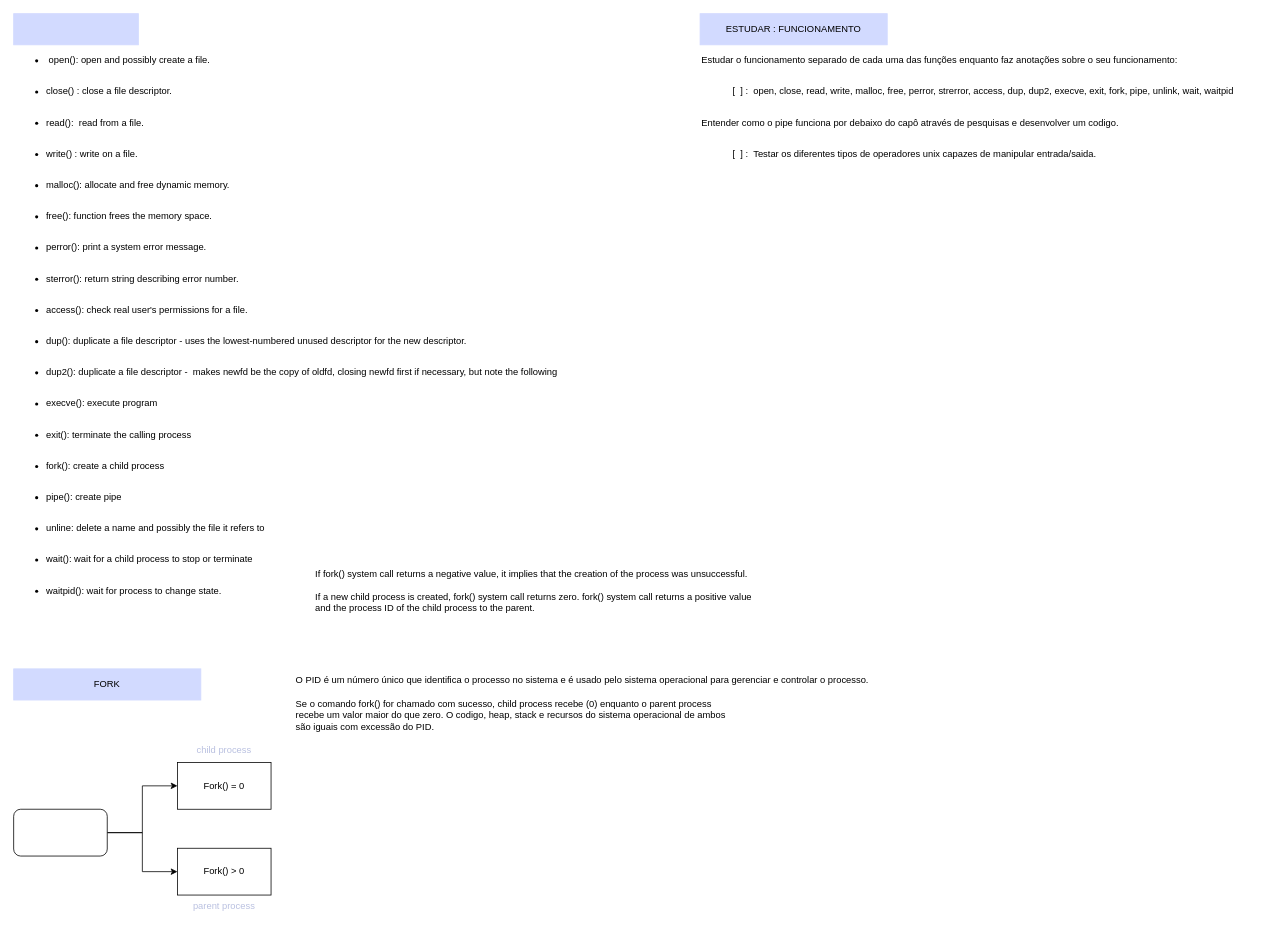
Image size: 1275x936. Some labels were removed from this diagram. Each missing label, with the centre of its shape:
"Fork()" belongs at [60,832].
"FUNÇÕES PERMITIDAS" belongs at [75,29].
